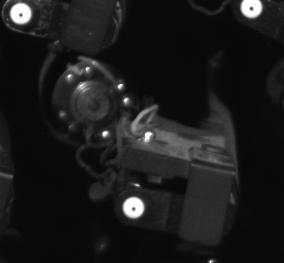fiber: (119, 193, 150, 222), (228, 1, 271, 20), (5, 1, 35, 28)
